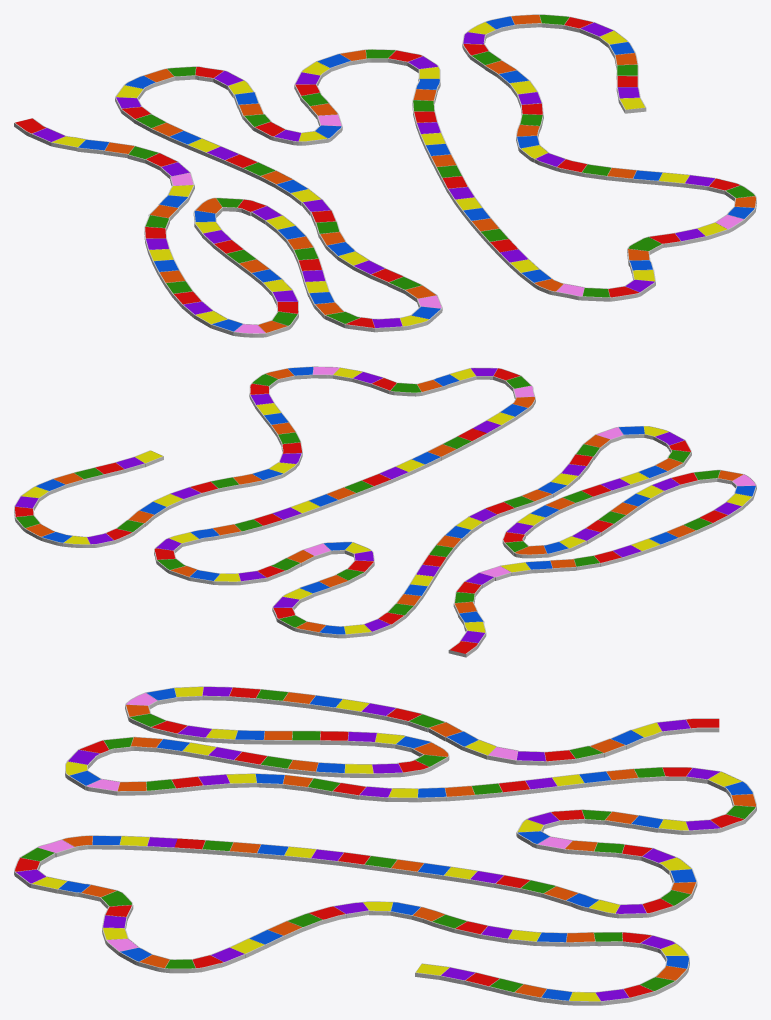
File: CandyLandBoardREAL.fbx
3 views of the same model, one above another, from view 1: azimuth 30°, elevation 25°; view 2: azimuth 150°, elevation 25°; view 3: azimuth 270°, elevation 25° (orthographic). The views are drawn at different scales.
Parts seen in each view (by area): view 1: Cube.172; view 2: Cube.172; view 3: Cube.172.
Boxes of the visible parts, left/top/right/bottom form: Cube.172: left=14, top=14, right=756, bottom=337; Cube.172: left=14, top=366, right=756, bottom=657; Cube.172: left=14, top=686, right=756, bottom=1005.
Size of the model in its own units: 3452 by 3468 by 21.64.
